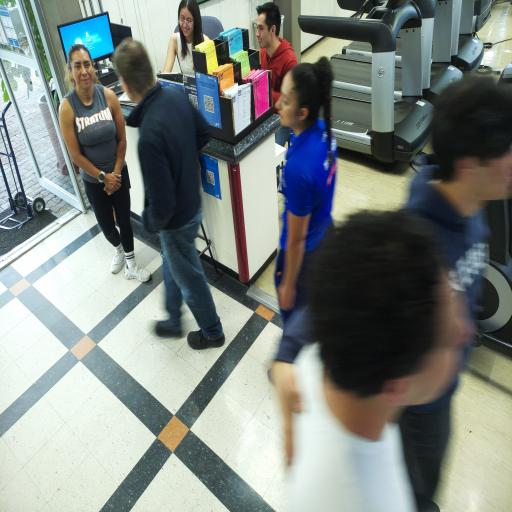person: (290, 211, 470, 511), (114, 40, 224, 349), (406, 78, 511, 320), (408, 78, 511, 319), (60, 44, 150, 282), (275, 58, 337, 323), (257, 2, 297, 113), (164, 0, 208, 75)
